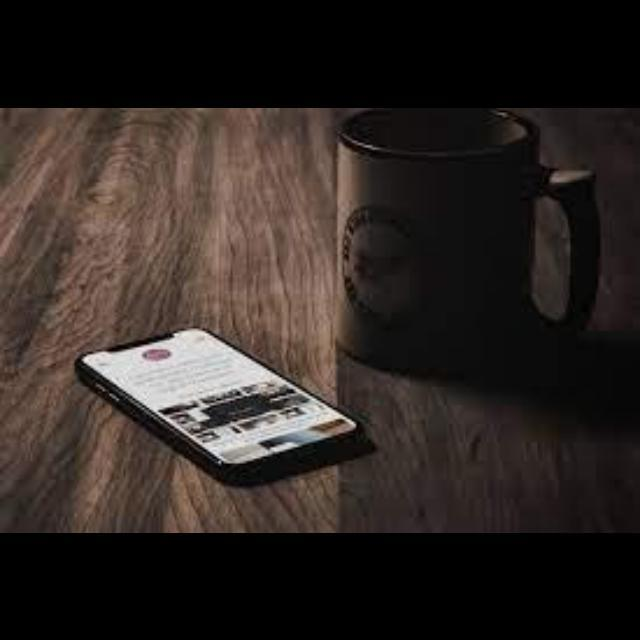Phone: (68, 331, 370, 489)
